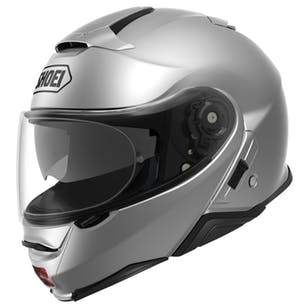with_helmet: (11, 3, 295, 304)
